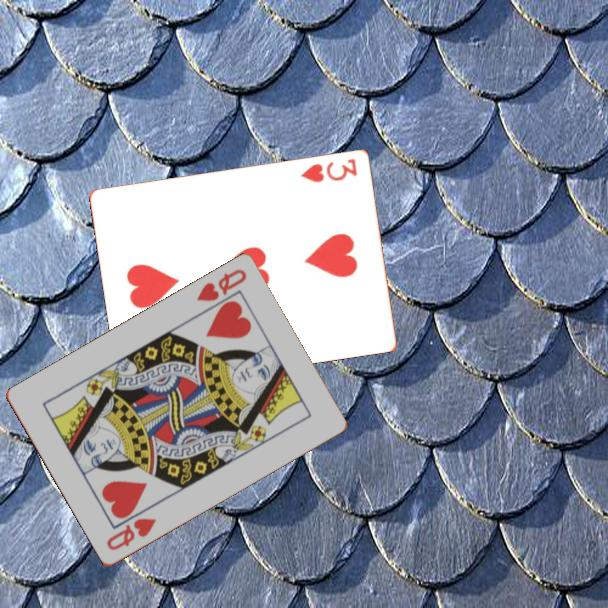h03: (297, 155, 360, 185)
h12: (193, 266, 250, 305), (103, 515, 159, 554)
